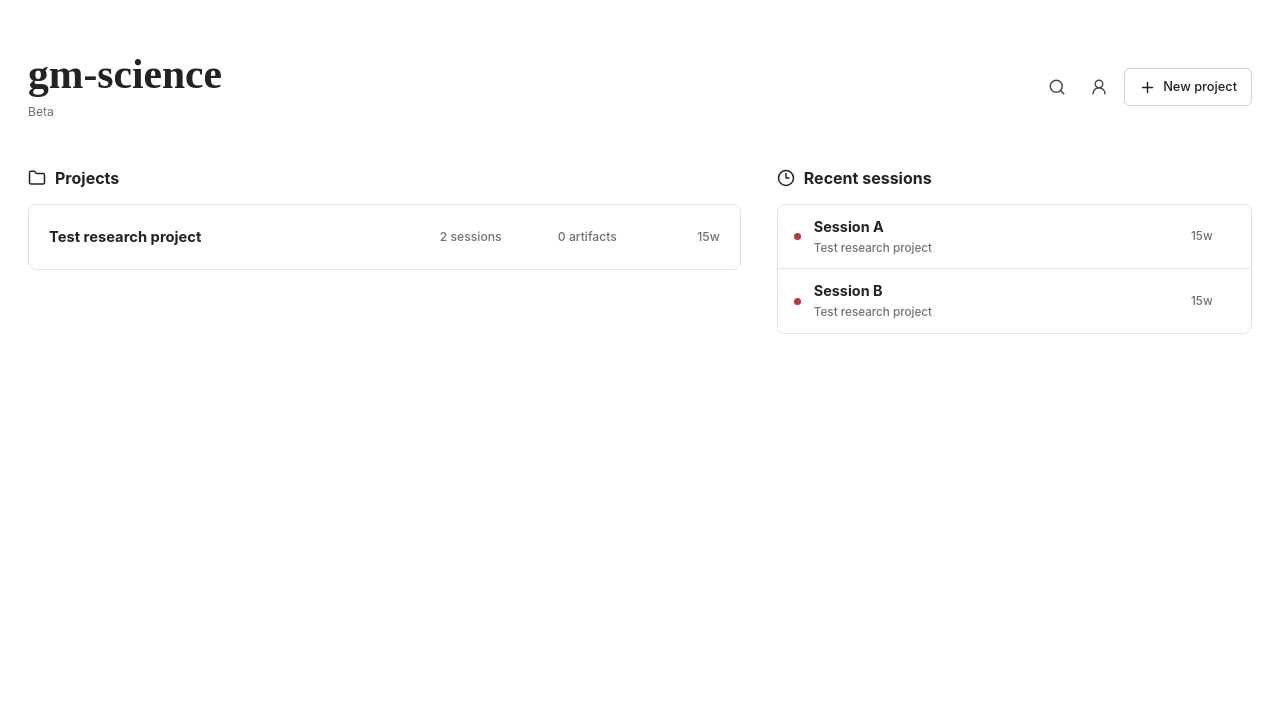
Test: App sending state › clears the current session sending state after a completed message event
Click the button "Test research project 2 sessions 0 artifacts 15w". click: (125, 237)
box: [29,205,740,269]
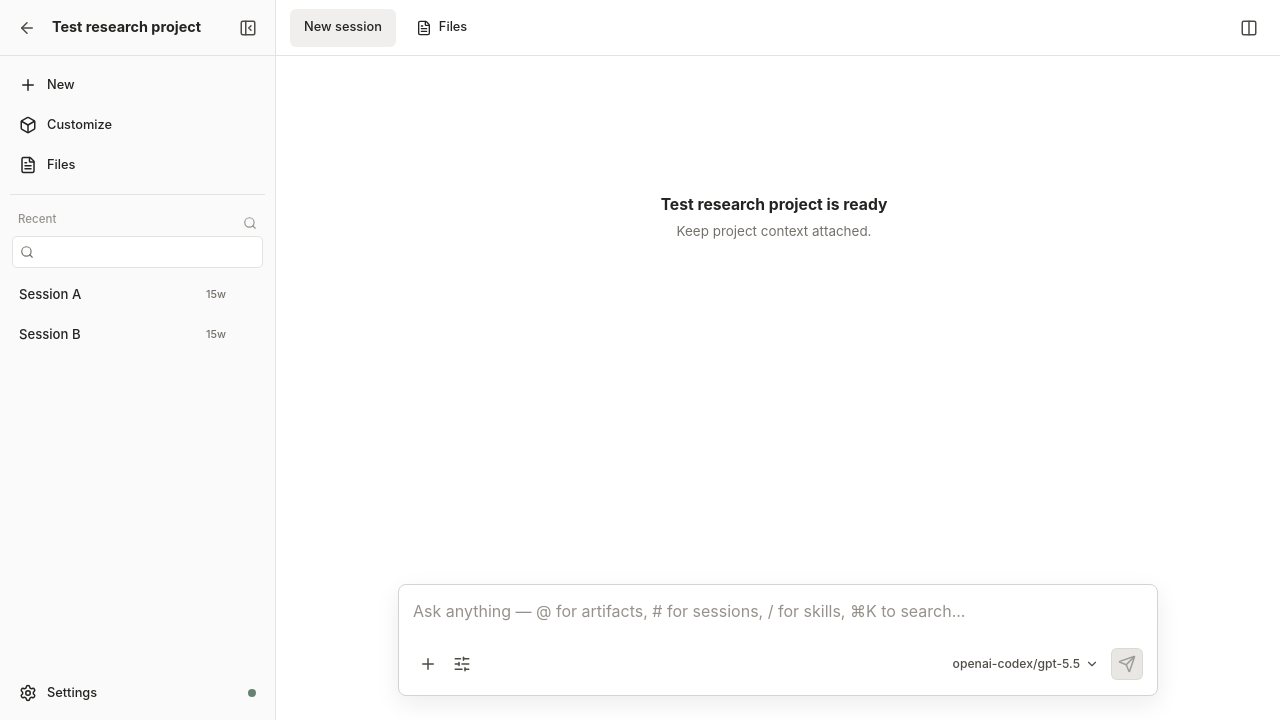
Replace the text in the text box named "Message" with "hello world". click: (778, 623)
box: [413,599,1143,647]
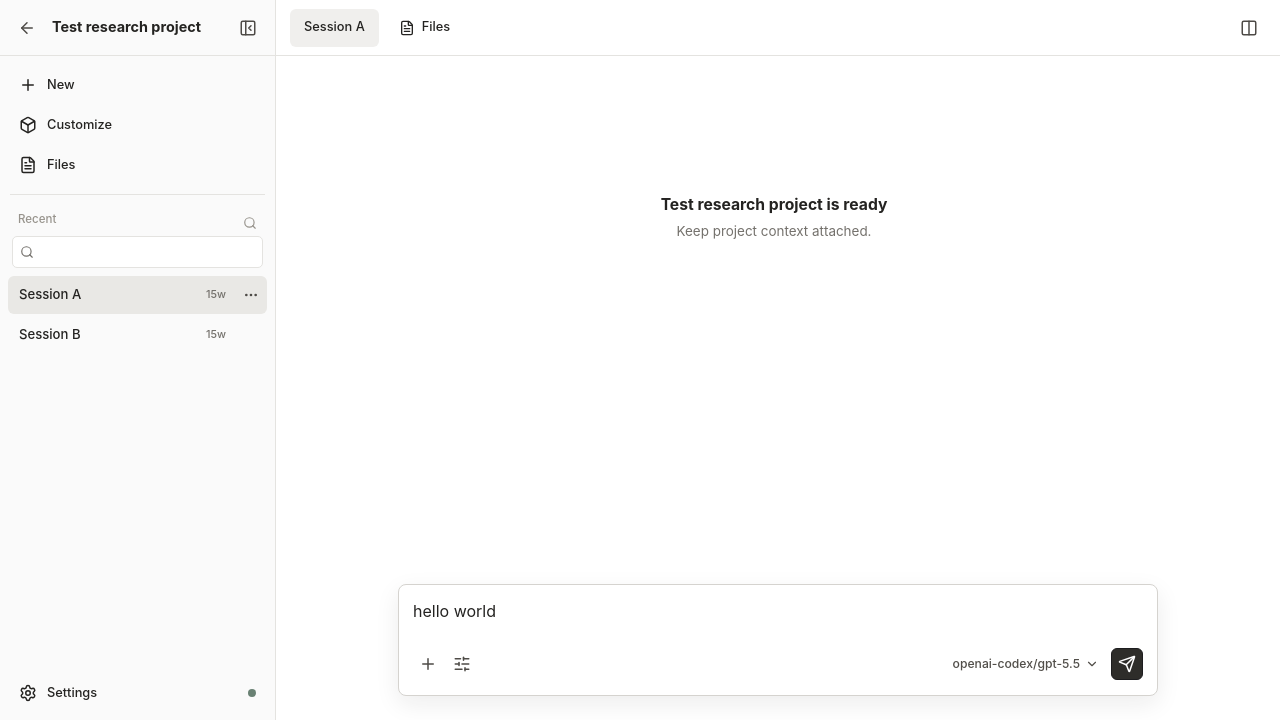
Click the button named "Send". click: (1127, 664)
box: [1111,648,1143,680]
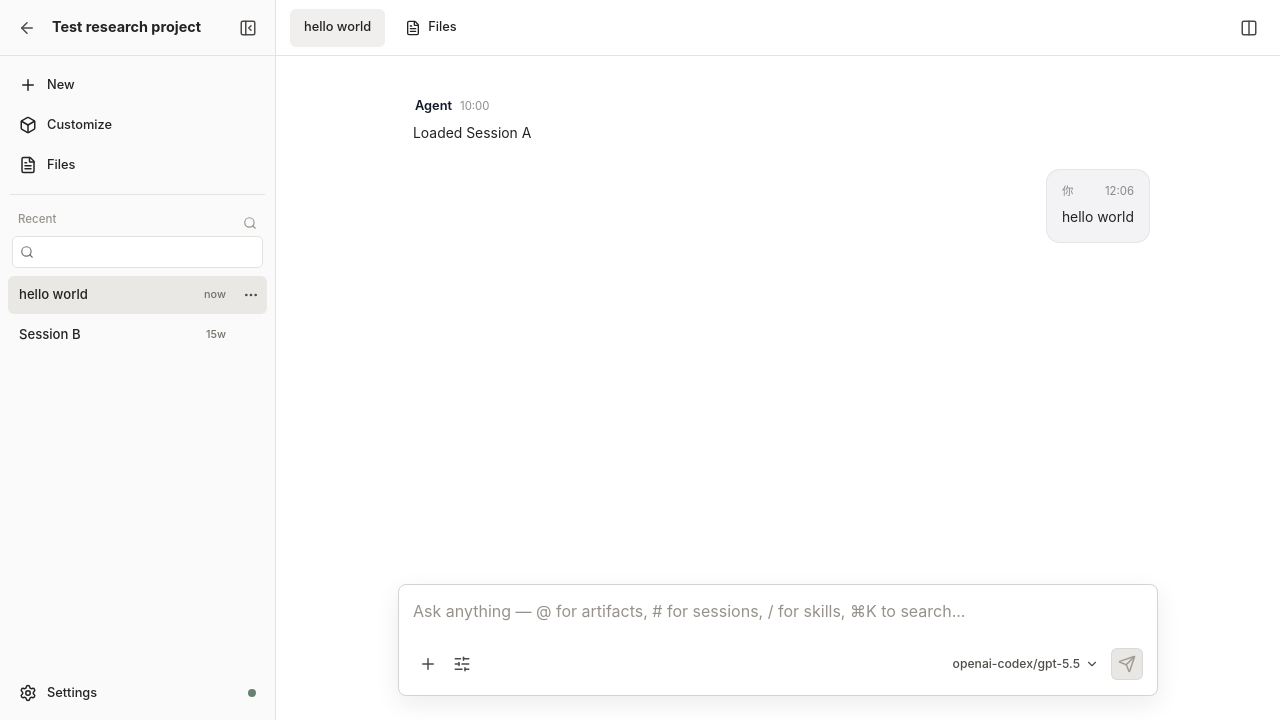
Now the button named "Send" is disabled, box [1111,648,1143,680]
Replace the text in the text box named "Message" with "second try". click: (778, 623)
box: [413,599,1143,647]
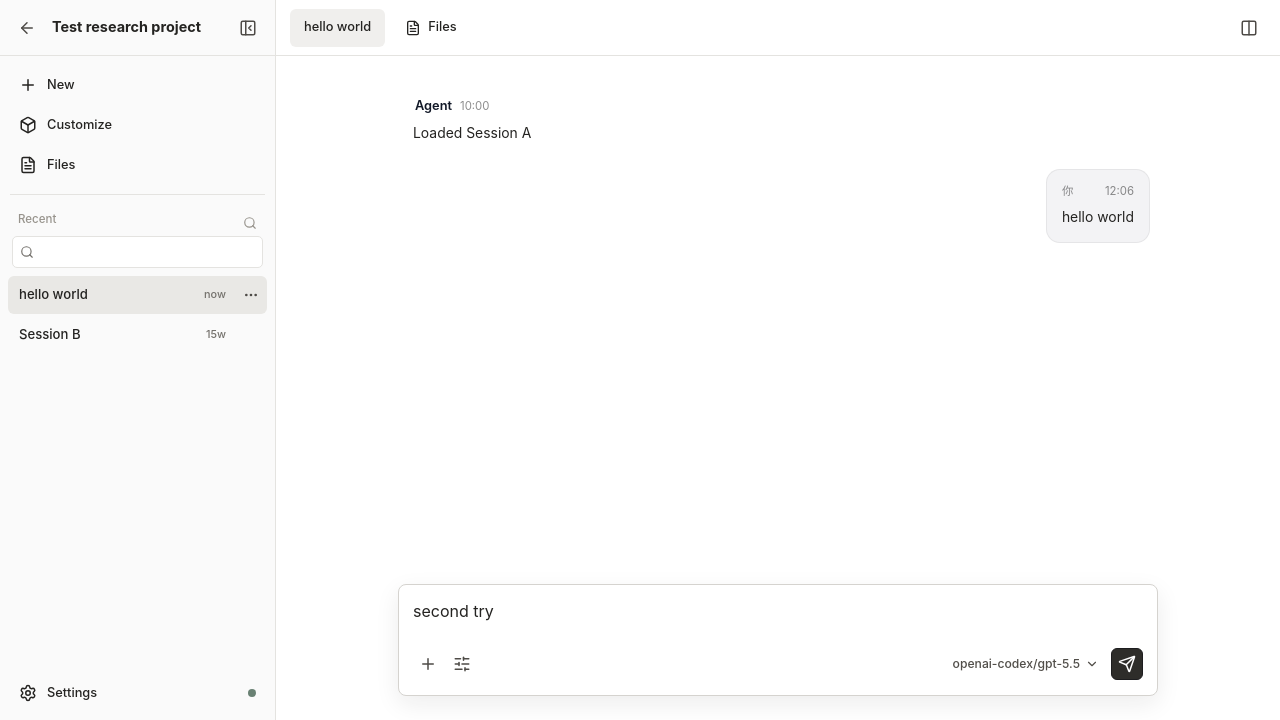
Now the button named "Send" is enabled, box [1111,648,1143,680]
